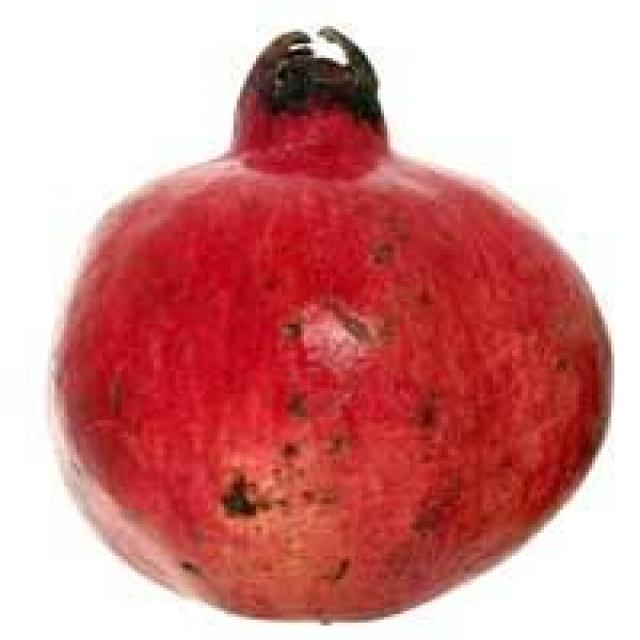organic waste: (45, 23, 611, 620)
